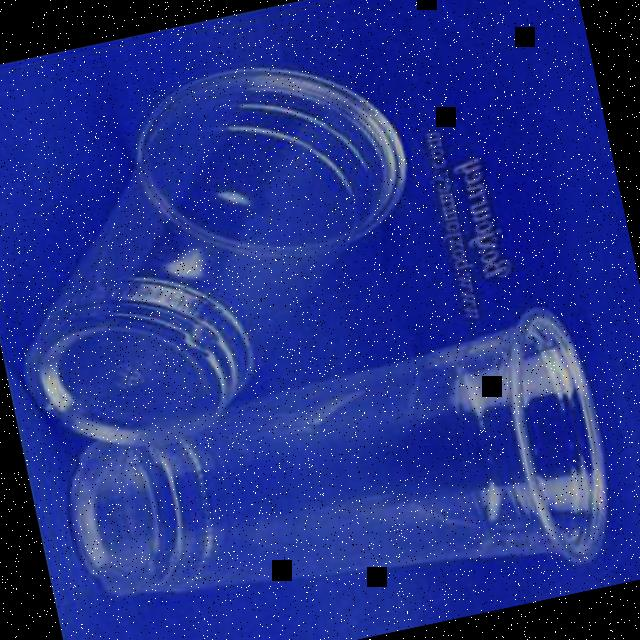plastic_cup: (0, 30, 453, 476), (54, 317, 621, 640)
